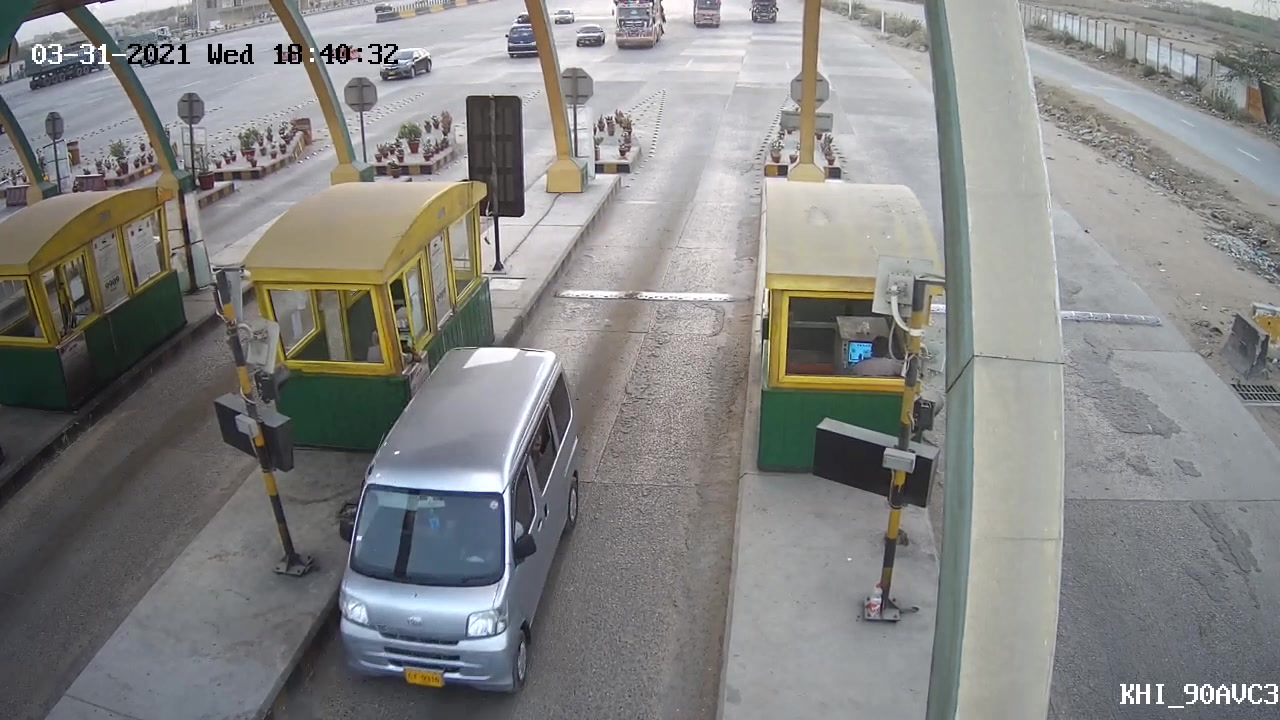F1: (322, 338, 594, 696)
